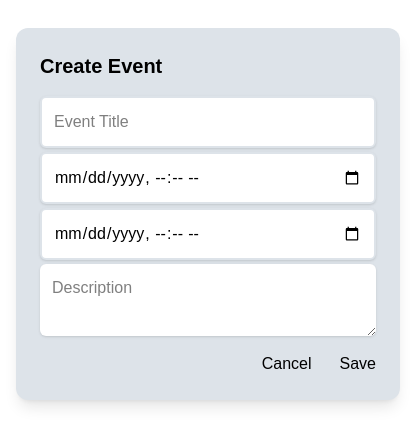
EventModal › shows error if end date is before start date
In the field with test id "start-date": (208, 178) [40, 152, 376, 204], type "2025-06-20T10:00"
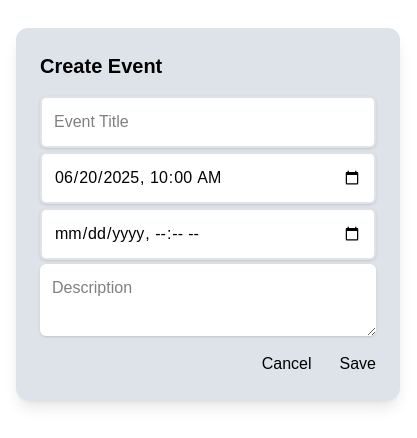
In the field with test id "end-date": (208, 234) [40, 208, 376, 260], type "2025-06-19T09:00"
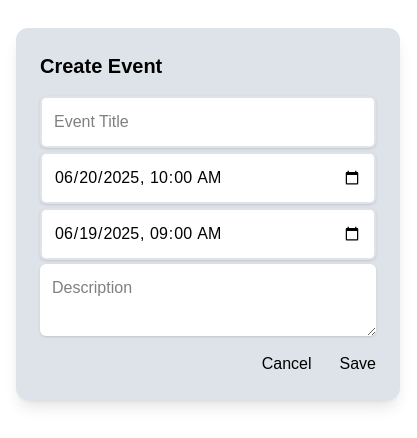
Click the button "Save": click(358, 364) [340, 352, 376, 376]
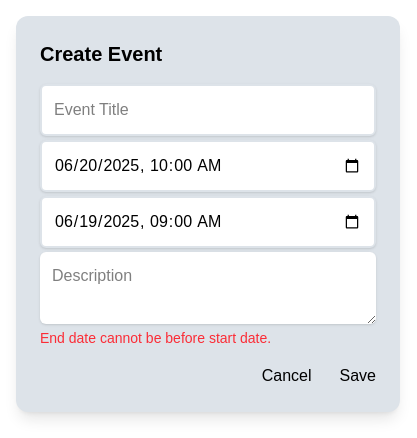
Check: the message shows "End date cannot be before start date", box [40, 330, 271, 346]
